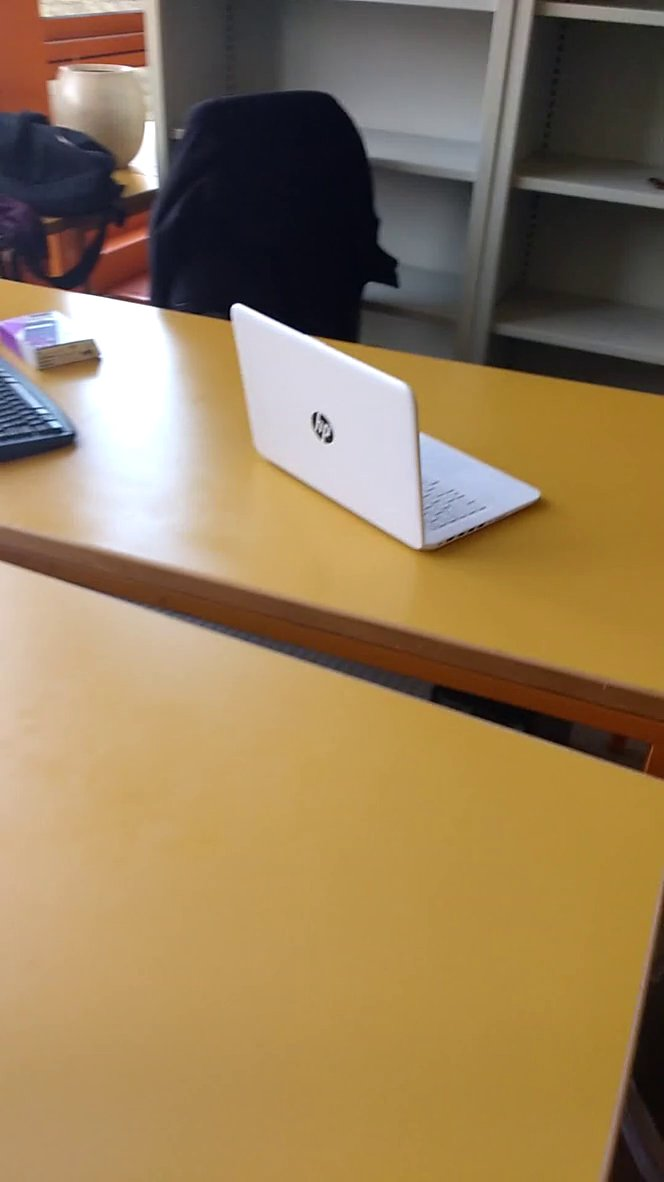chair: (153, 86, 414, 355)
laptop: (224, 290, 552, 564)
